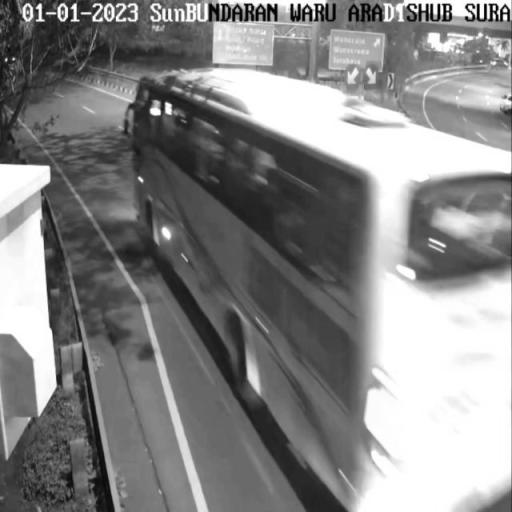bus: (130, 66, 512, 512)
